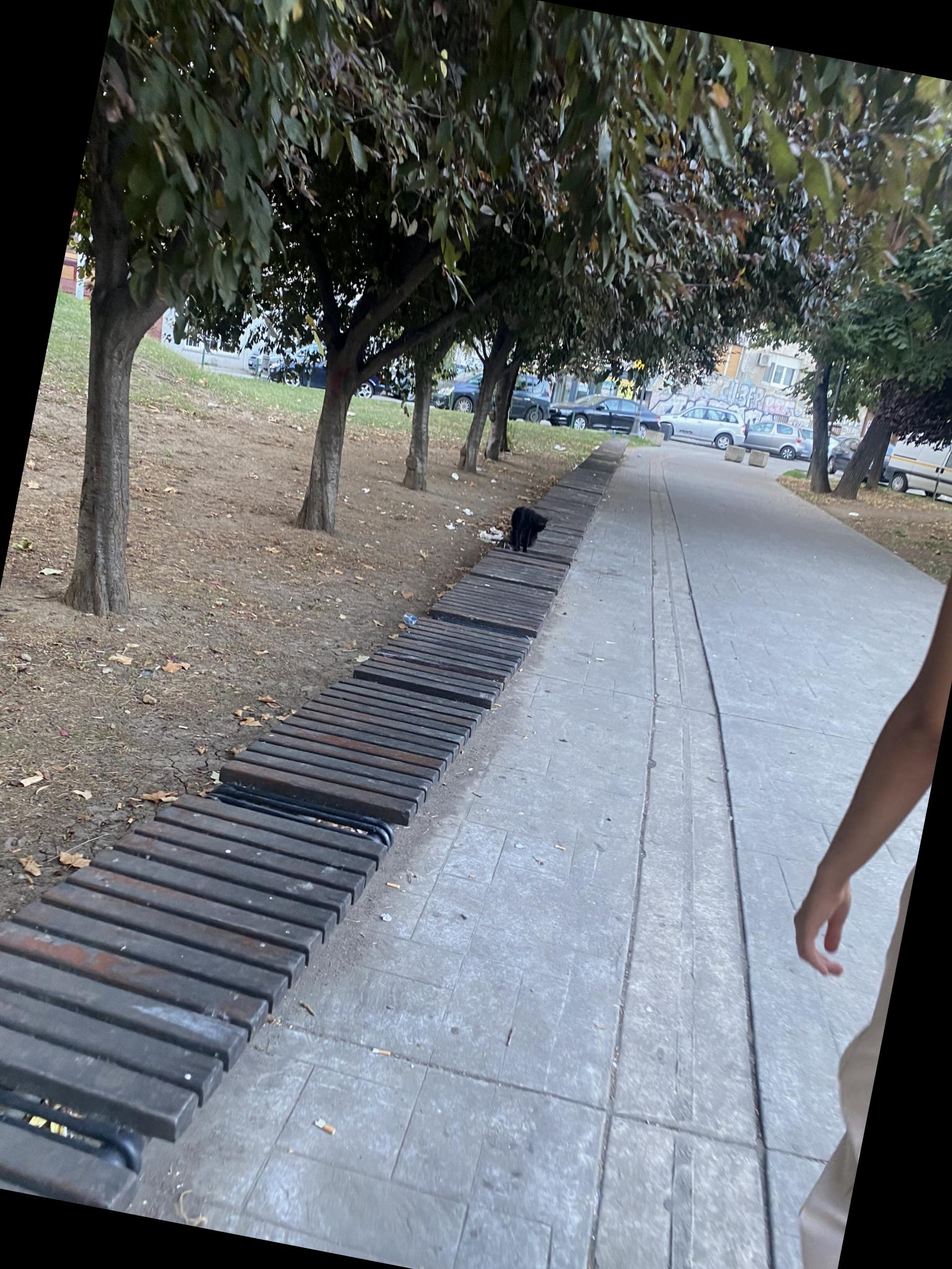macka: (505, 504, 551, 557)
